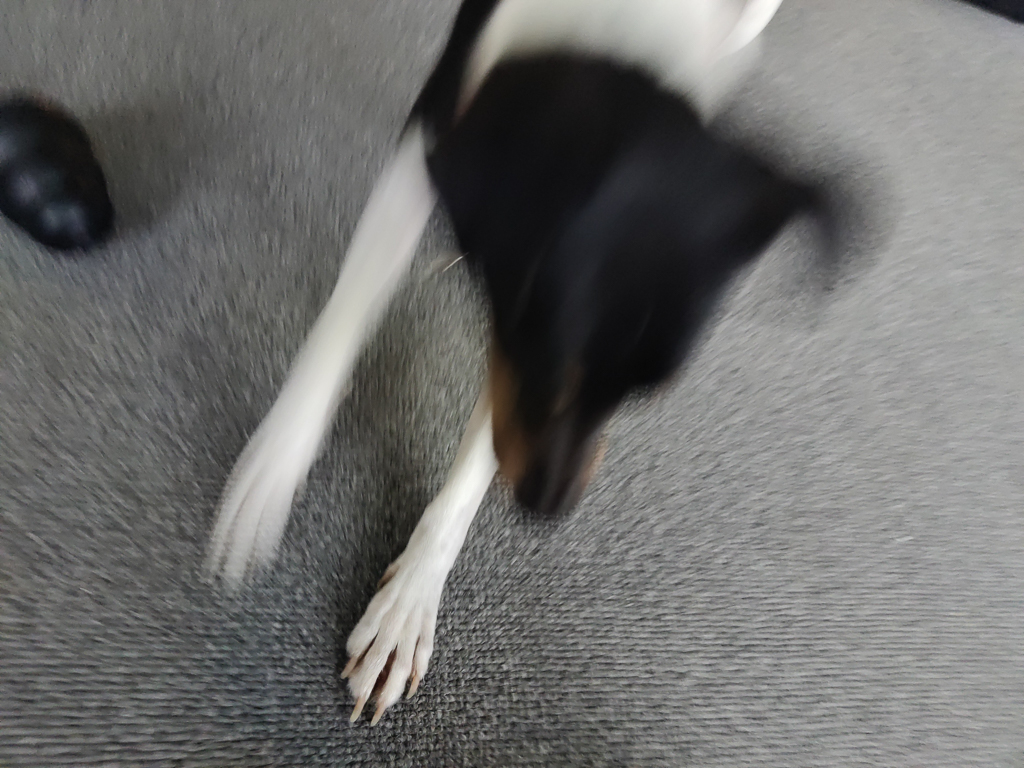Dog: (160, 0, 949, 738)
